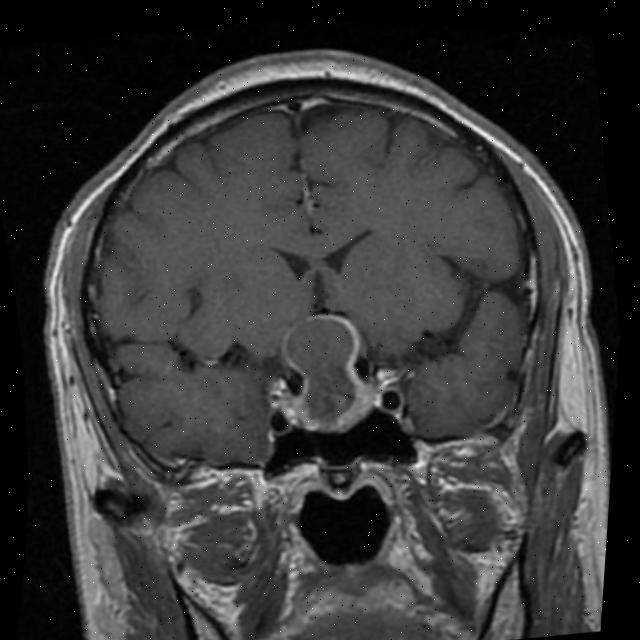Pituitary: (272, 304, 388, 442)
